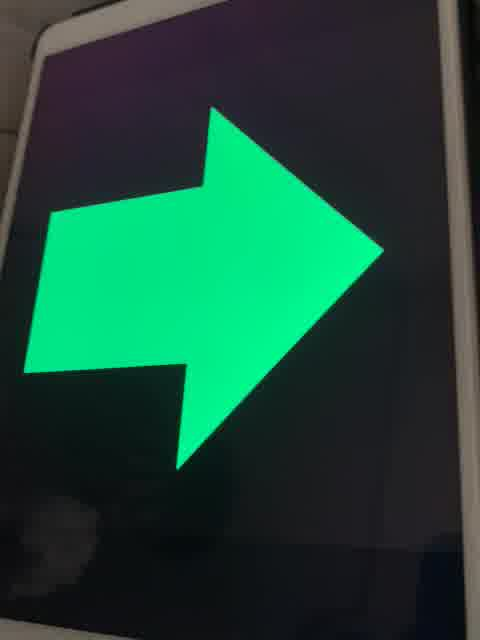right: (19, 103, 389, 482)
